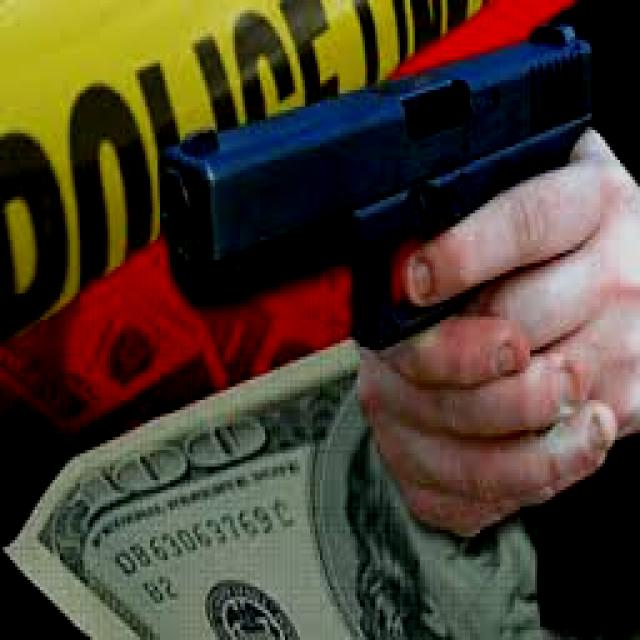pistol: (153, 20, 595, 347)
